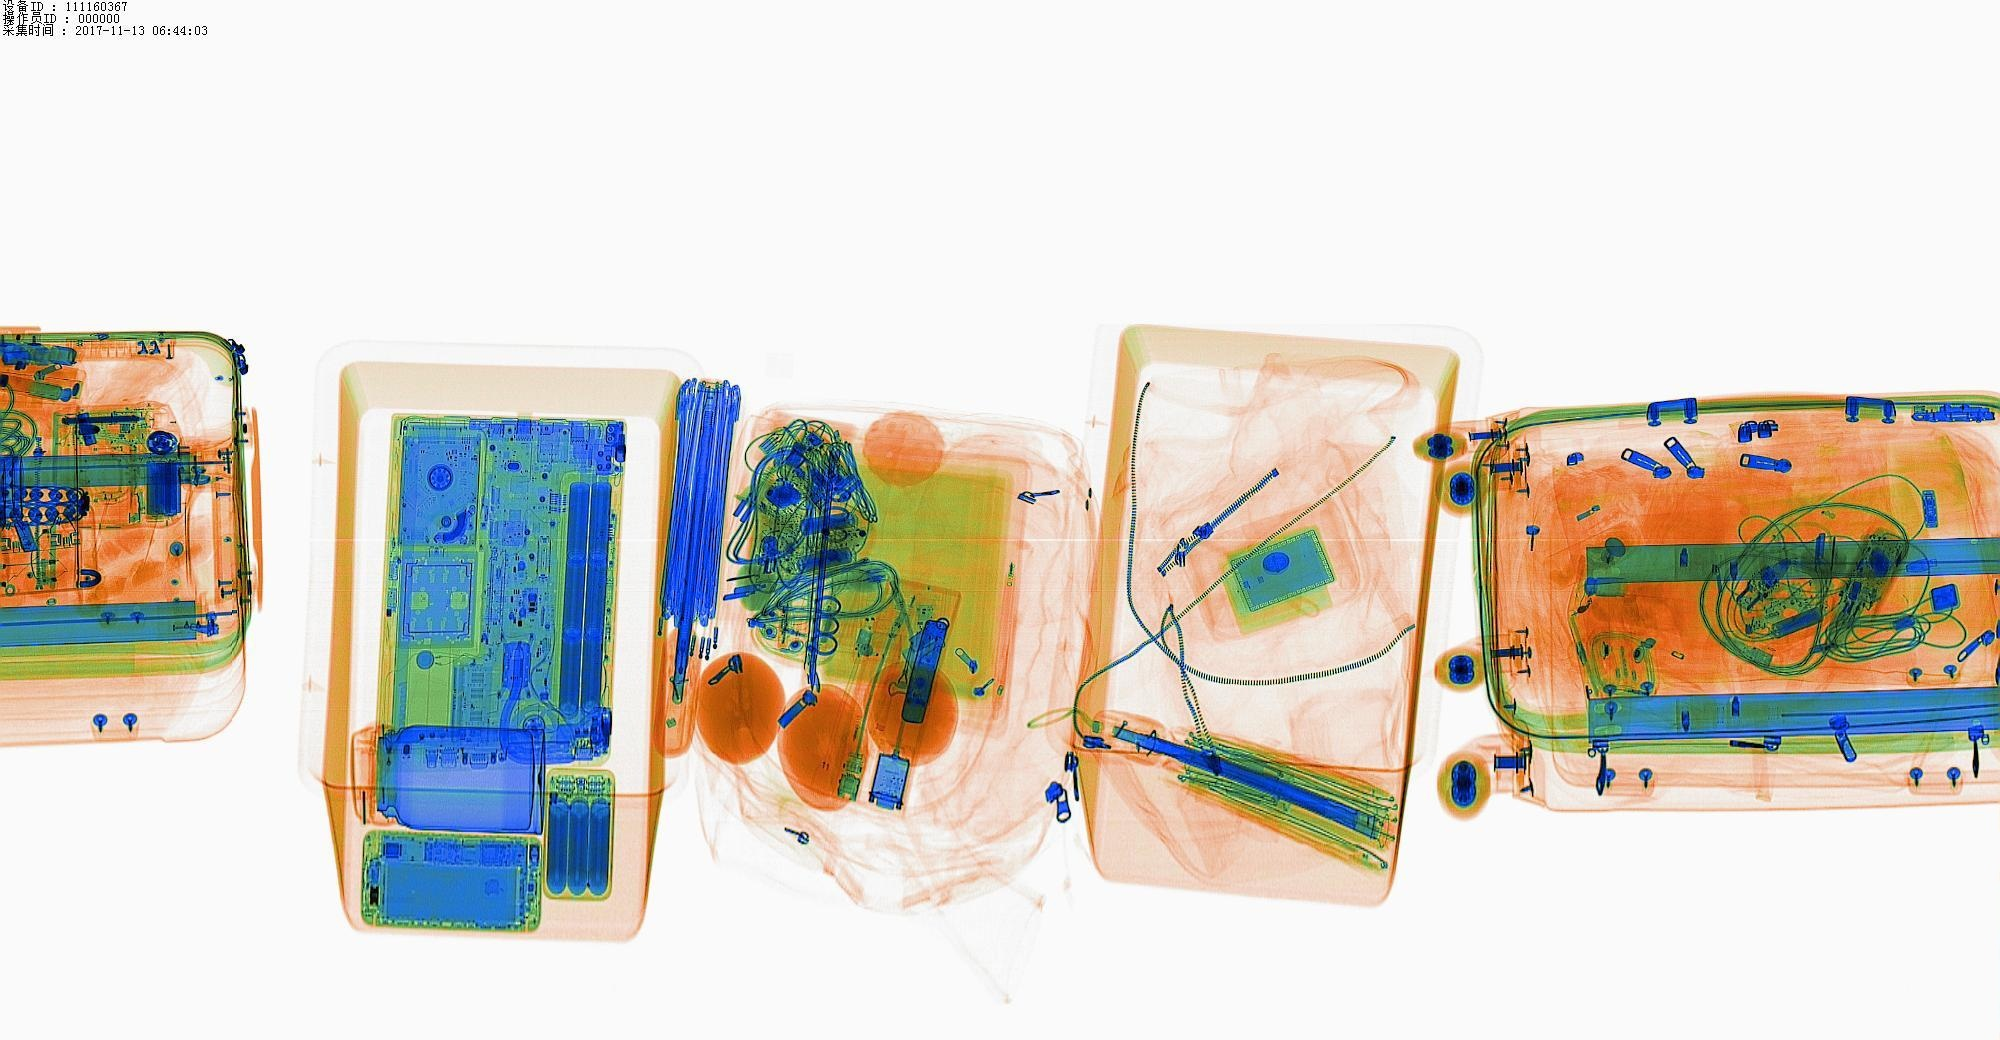core: (552, 767, 619, 893)
